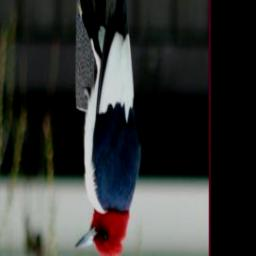Woodpecker: (73, 0, 142, 256)
